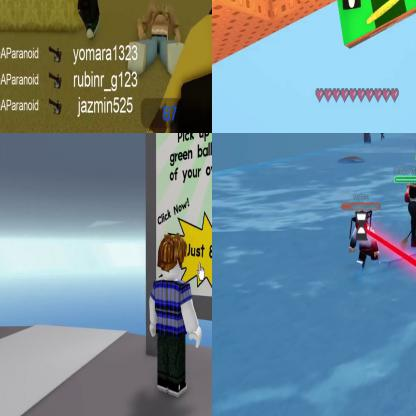Roblox-Avatar: (150, 233, 203, 399), (129, 3, 185, 76), (61, 1, 111, 41), (350, 211, 381, 273), (409, 184, 416, 250), (343, 1, 362, 12)
